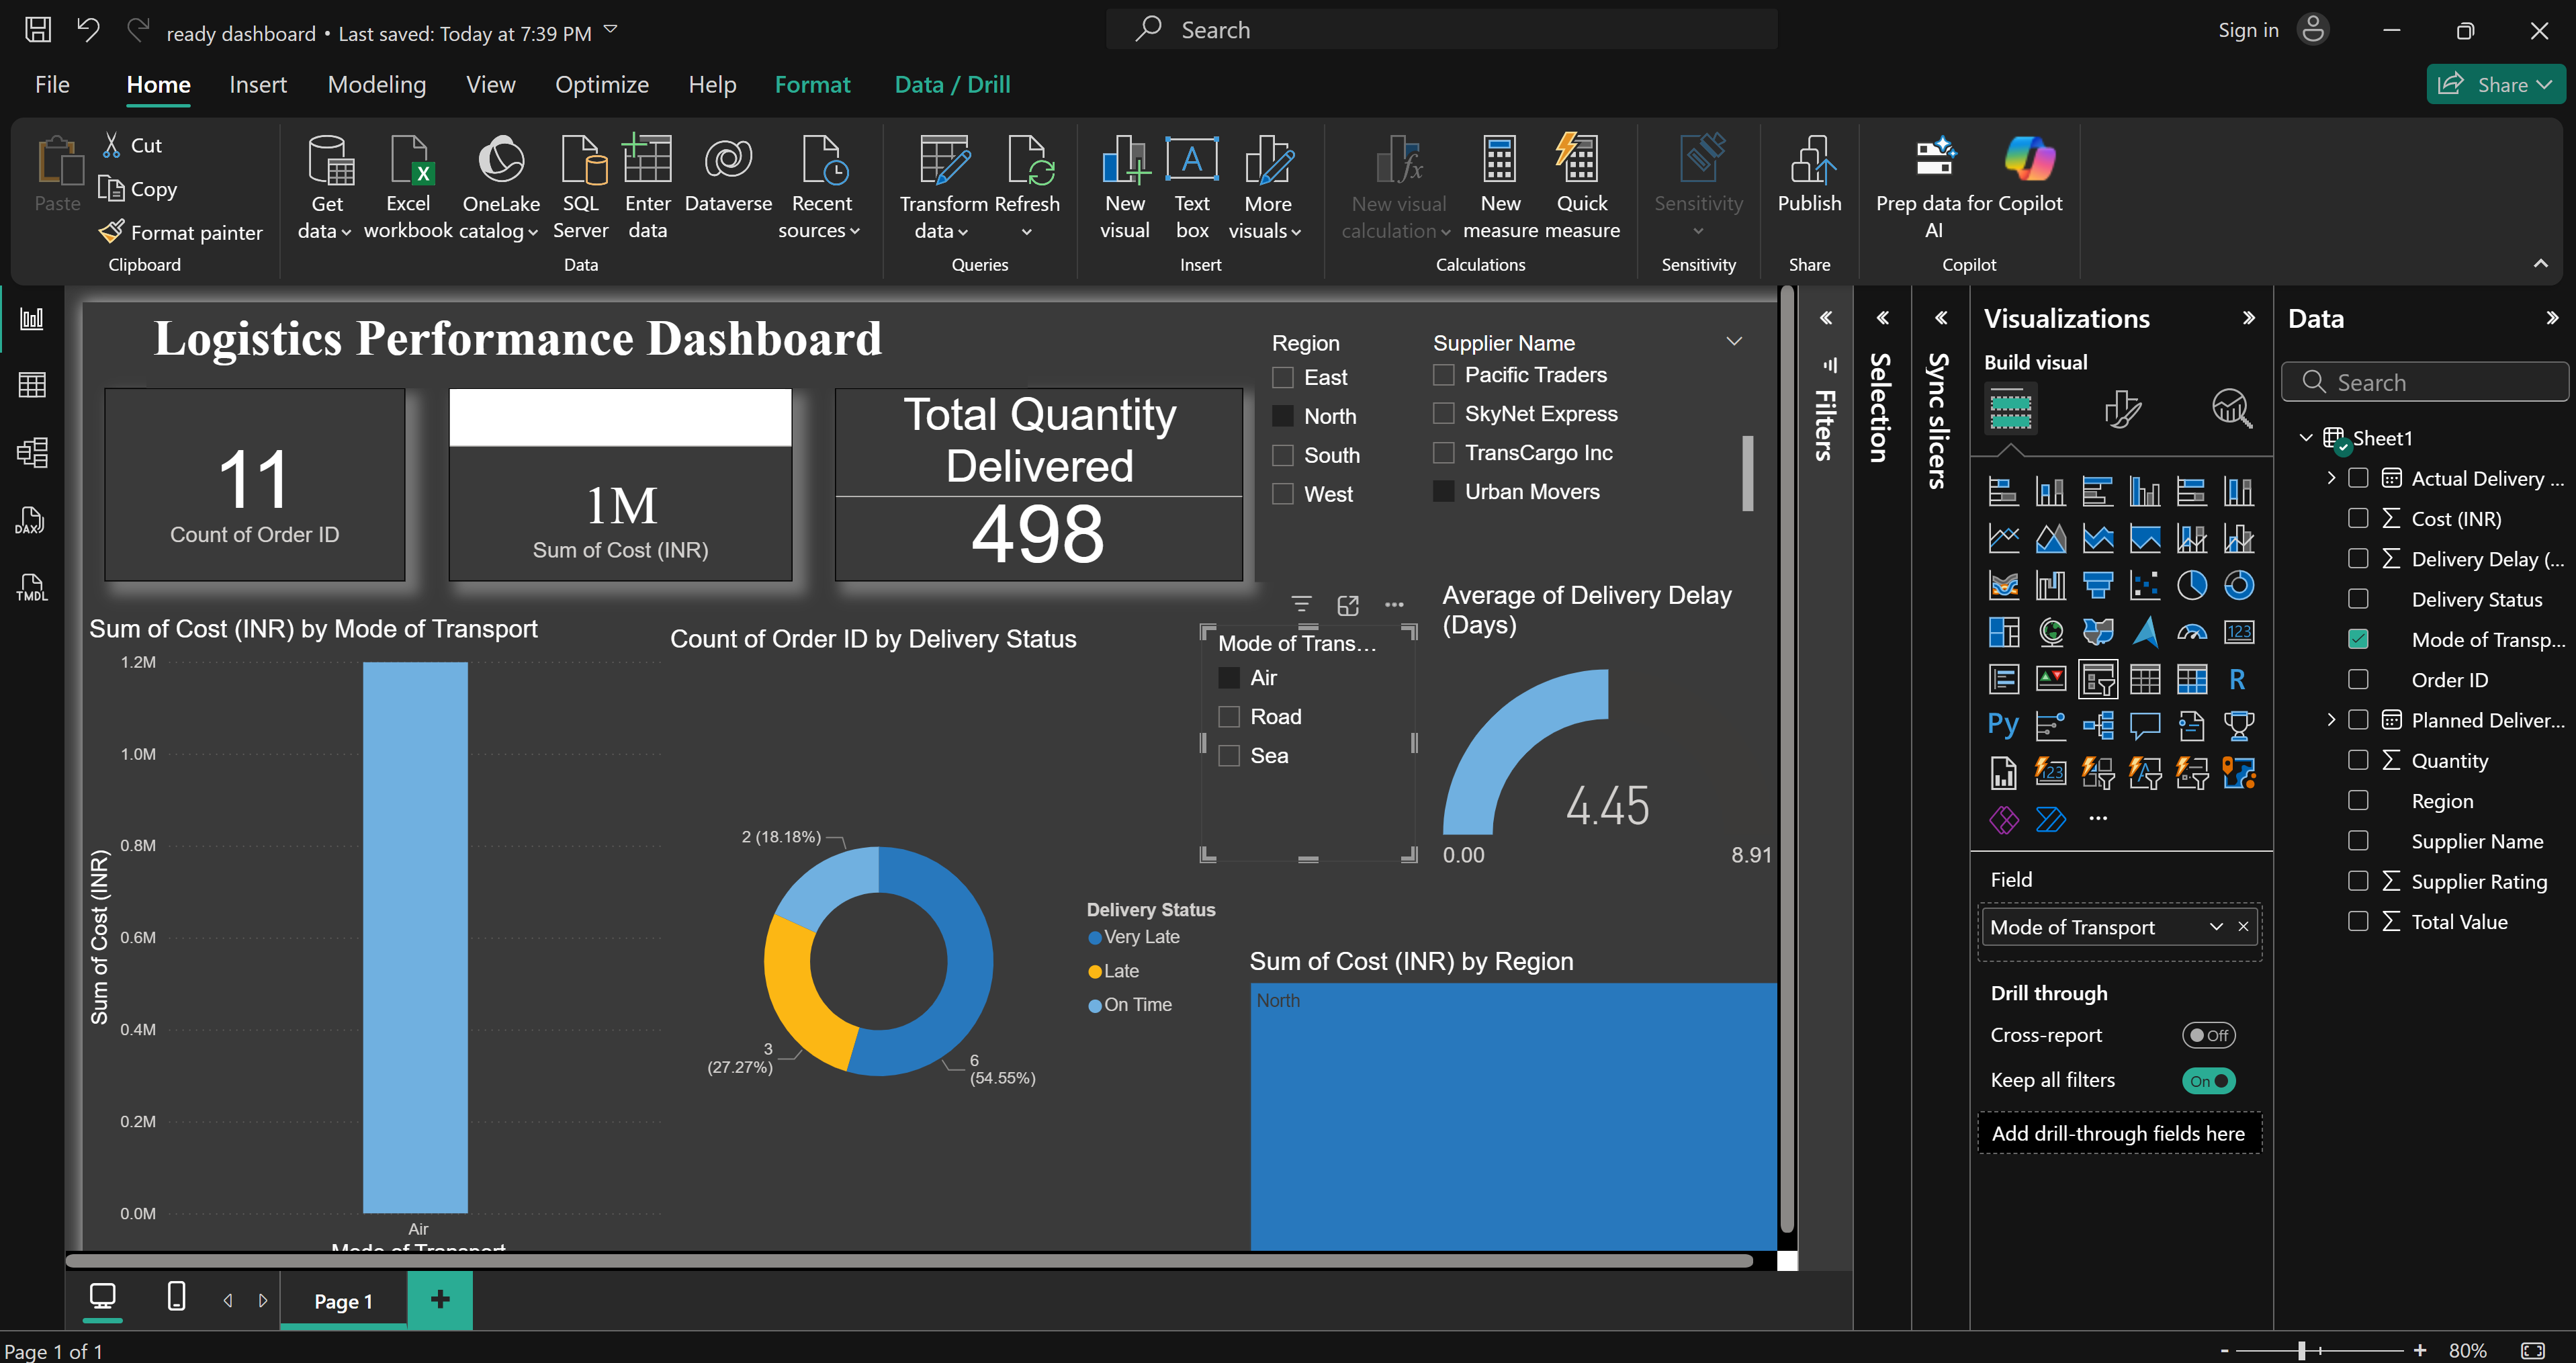

Layout of this report page (visuals, bound fields, positions):
{"tool":"powerbi","page":{"name":"Page 1","canvas":[1280,720],"ordinal":0},"visuals":[{"type":"card","fields":{"Values":["CountNonNull(Sheet1.Order ID)"]},"box":[16,64,224,144],"z":0},{"type":"card","title":"Total Cost (₹)","fields":{"Values":["Sum(Sheet1.Cost (INR))"]},"box":[272,64,256,144],"z":1000},{"type":"card","title":"Total Quantity Delivered","fields":{"Values":["Sum(Sheet1.Quantity)"]},"box":[560,64,304,144],"z":2000},{"type":"clusteredColumnChart","fields":{"Category":["Sheet1.Mode of Transport"],"Y":["Sum(Sheet1.Cost (INR))"]},"box":[0,232,440,488],"z":3000},{"type":"treemap","fields":{"Values":["Sum(Sheet1.Cost (INR))"],"Group":["Sheet1.Region"]},"box":[864,480,416,240],"z":4000},{"type":"gauge","fields":{"Y":["Avg(Sheet1.Delivery Delay (Days))"]},"box":[1008,208,256,240],"z":5000},{"type":"donutChart","fields":{"Category":["Sheet1.Delivery Status"],"Y":["CountNonNull(Sheet1.Order ID)"]},"box":[432,240,432,480],"z":6000},{"type":"slicer","fields":{"Values":["Sheet1.Region"]},"box":[872,16,128,192],"z":7000},{"type":"slicer","fields":{"Values":["Sheet1.Supplier Name"]},"box":[992,16,256,144],"z":8000},{"type":"slicer","fields":{"Values":["Sheet1.Mode of Transport"]},"box":[832,240,160,176],"z":9000},{"type":"textbox","box":[48,0,656,64],"z":9001}]}

Visuals, with their boxes on the page's 1280x720 design canvas (x1, y1, x2, y2). These are canvas units, not pixel positions in the 2576x1363 screenshot, which may show the page scaled, cropped or inside an application window:
card - CountNonNull(Sheet1.Order ID): (left=16, top=64, right=240, bottom=208)
"Total Cost (₹)" card: (left=272, top=64, right=528, bottom=208)
"Total Quantity Delivered" card: (left=560, top=64, right=864, bottom=208)
clusteredColumnChart - Sheet1.Mode of Transport x Sum(Sheet1.Cost (INR)): (left=0, top=232, right=440, bottom=720)
treemap - Sum(Sheet1.Cost (INR)) x Sheet1.Region: (left=864, top=480, right=1280, bottom=720)
gauge - Avg(Sheet1.Delivery Delay (Days)): (left=1008, top=208, right=1264, bottom=448)
donutChart - Sheet1.Delivery Status x CountNonNull(Sheet1.Order ID): (left=432, top=240, right=864, bottom=720)
slicer - Sheet1.Region: (left=872, top=16, right=1000, bottom=208)
slicer - Sheet1.Supplier Name: (left=992, top=16, right=1248, bottom=160)
slicer - Sheet1.Mode of Transport: (left=832, top=240, right=992, bottom=416)
textbox: (left=48, top=0, right=704, bottom=64)
